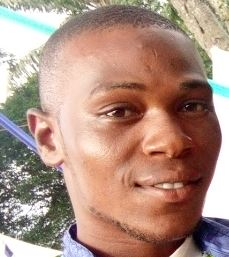without_facemask: (87, 134, 225, 241)
